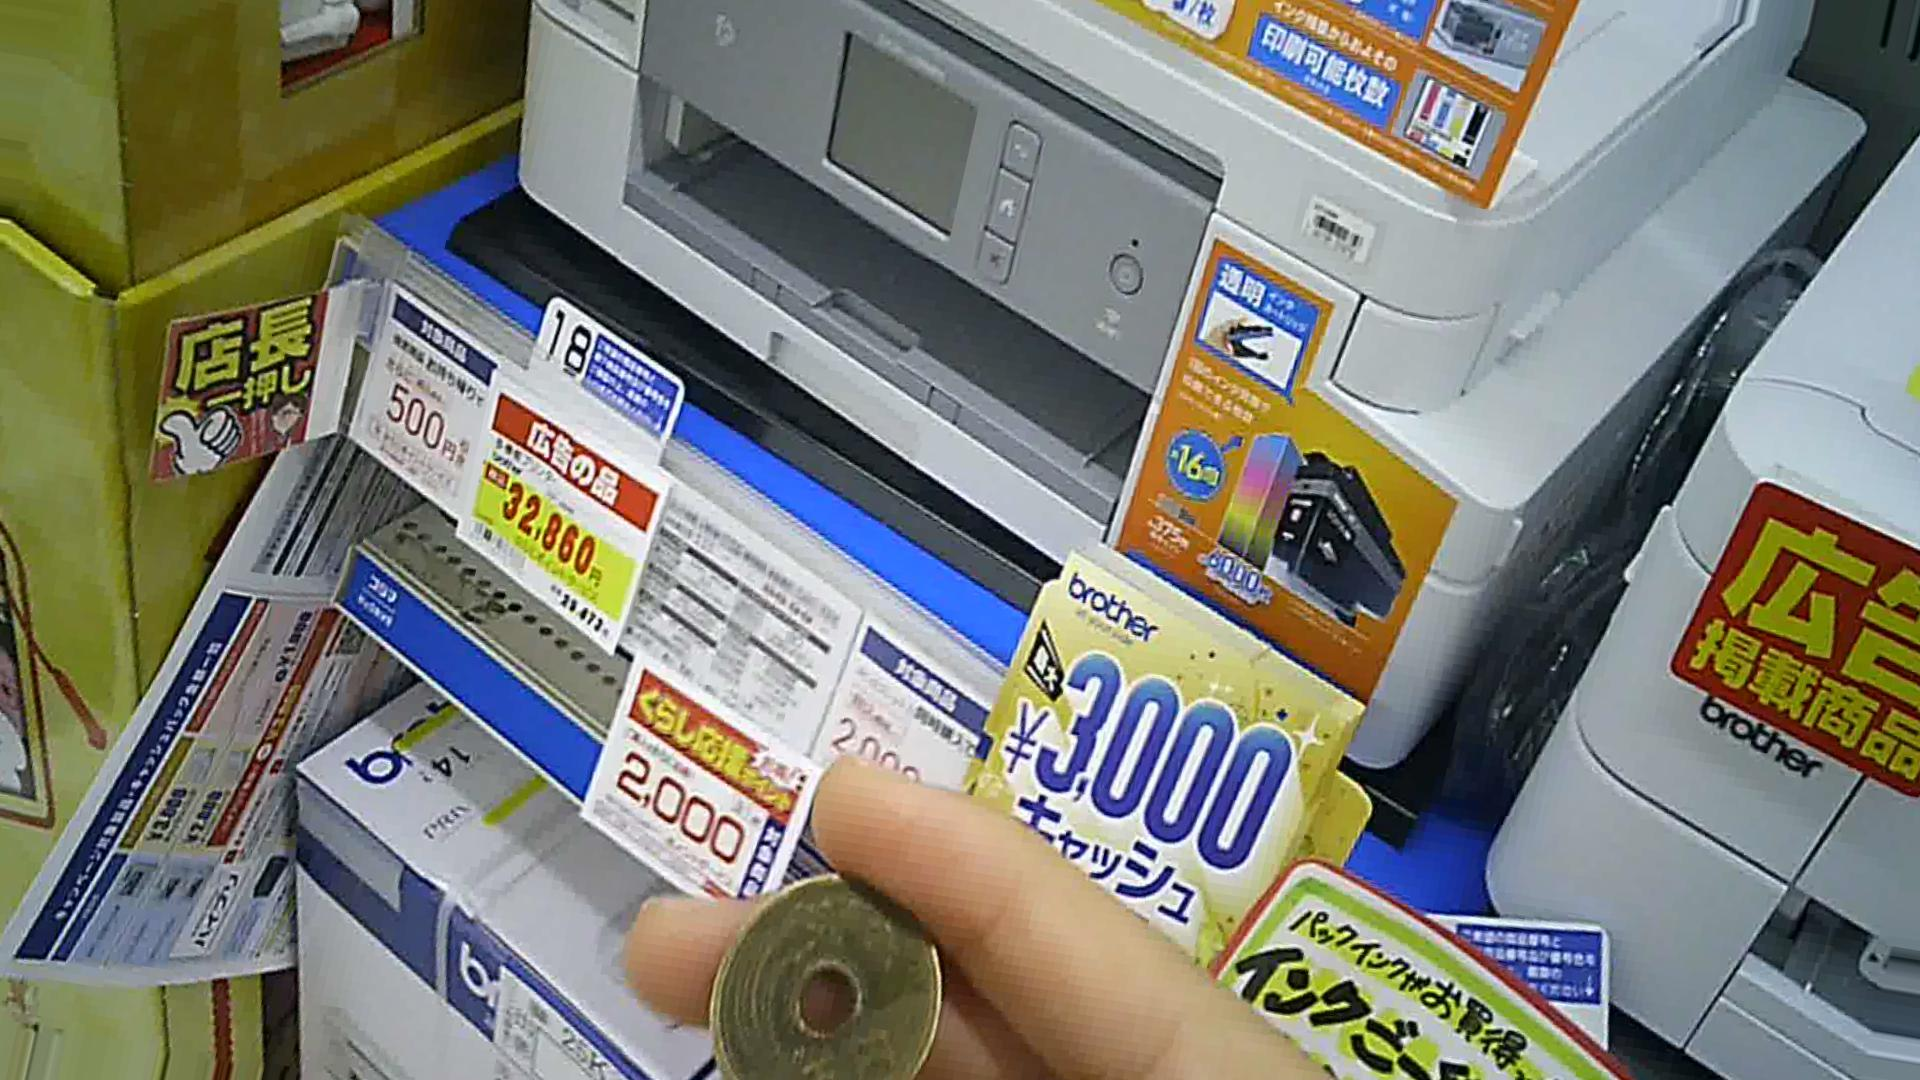5 Yen: (694, 857, 975, 1077)
